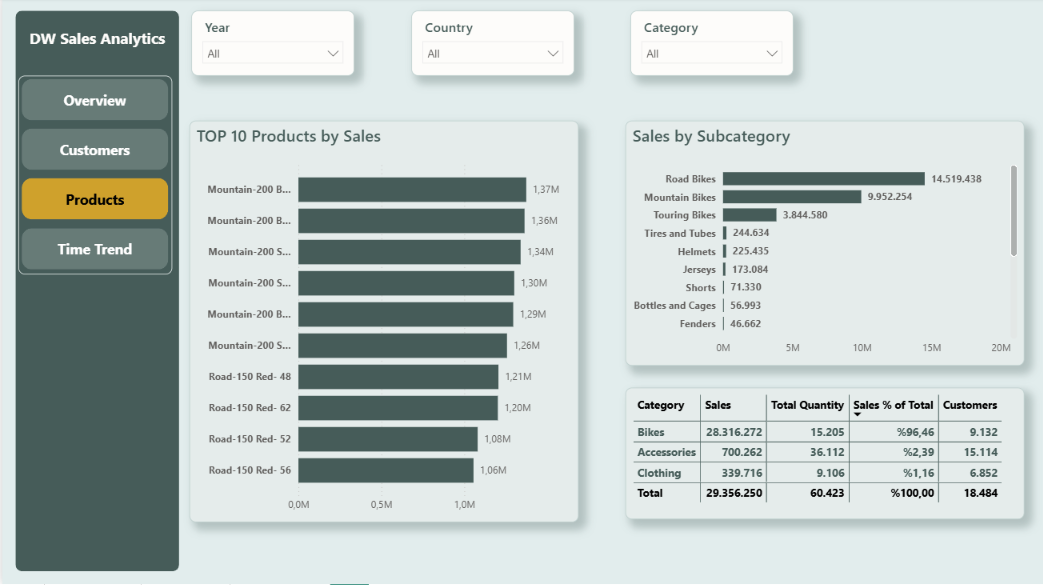

The dashboard page shown, as its layout file describes it:
{"tool":"powerbi","page":{"name":"Products","canvas":[1280,720],"ordinal":2},"visuals":[{"type":"shape","box":[16,16,201,688],"z":0},{"type":"textbox","box":[28.2,31.9,201,688],"z":1000},{"type":"pageNavigator","box":[19.6,95.7,189,244.2],"z":2000},{"type":"slicer","fields":{"Values":["Calendar.Year"]},"box":[232,16,200,80],"z":3000},{"type":"slicer","fields":{"Values":["dim_customers.country"]},"box":[501.8,16,200,80],"z":4000},{"type":"slicer","fields":{"Values":["dim_products.category"]},"box":[770,16,200,80],"z":5000},{"type":"clusteredBarChart","title":"TOP 10 Products by Sales","fields":{"Y":["_01Measures_Overview.Sales"],"Category":["dim_products.product_name"]},"box":[229.2,150.9,477.5,493.2],"z":6000},{"type":"clusteredBarChart","title":"Sales by Subcategory","fields":{"Category":["dim_products.subcategory"],"Y":["_01Measures_Overview.Sales"]},"box":[764.3,150.9,489.9,300.5],"z":7000},{"type":"tableEx","fields":{"Values":["dim_products.category","_01Measures_Overview.Sales","_01Measures_Overview.Total Quantity","_02Measures_Time.Sales % of Total","_01Measures_Overview.Customers"]},"box":[764.3,478.9,489.9,161.9],"z":8000}]}

Visuals, with their boxes in screenshot pixels (x1, y1, x2, y2), scaled from the page's 1280x720 canvas onto the 1043x585 screenshot:
shape: x1=13 y1=13 x2=177 y2=572
textbox: x1=23 y1=26 x2=187 y2=584
pageNavigator: x1=16 y1=78 x2=170 y2=276
slicer - Calendar.Year: x1=189 y1=13 x2=352 y2=78
slicer - dim_customers.country: x1=409 y1=13 x2=572 y2=78
slicer - dim_products.category: x1=627 y1=13 x2=790 y2=78
"TOP 10 Products by Sales" clusteredBarChart: x1=187 y1=123 x2=576 y2=523
"Sales by Subcategory" clusteredBarChart: x1=623 y1=123 x2=1022 y2=367
tableEx - dim_products.category x _01Measures_Overview.Sales: x1=623 y1=389 x2=1022 y2=521
